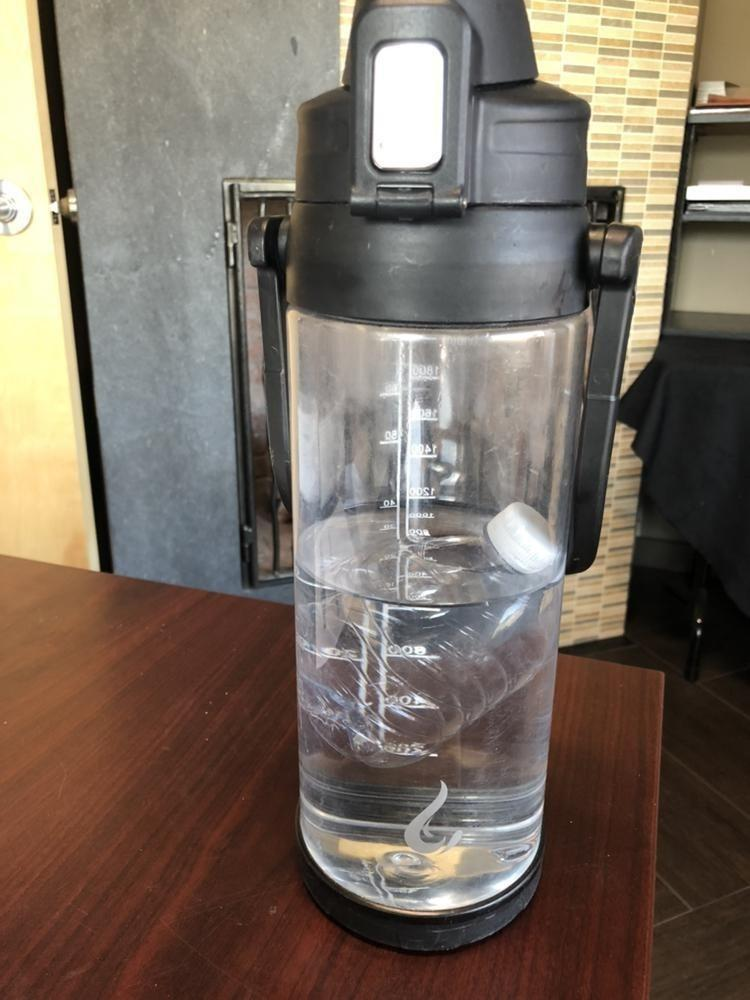gym bottle: (256, 1, 612, 955)
